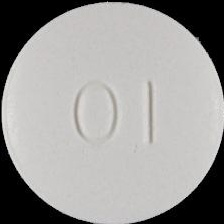35356-875: (0, 0, 224, 224)
